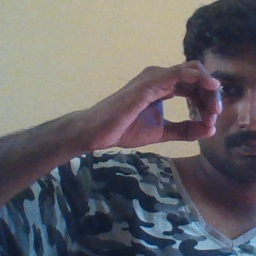O: (89, 57, 228, 151)
